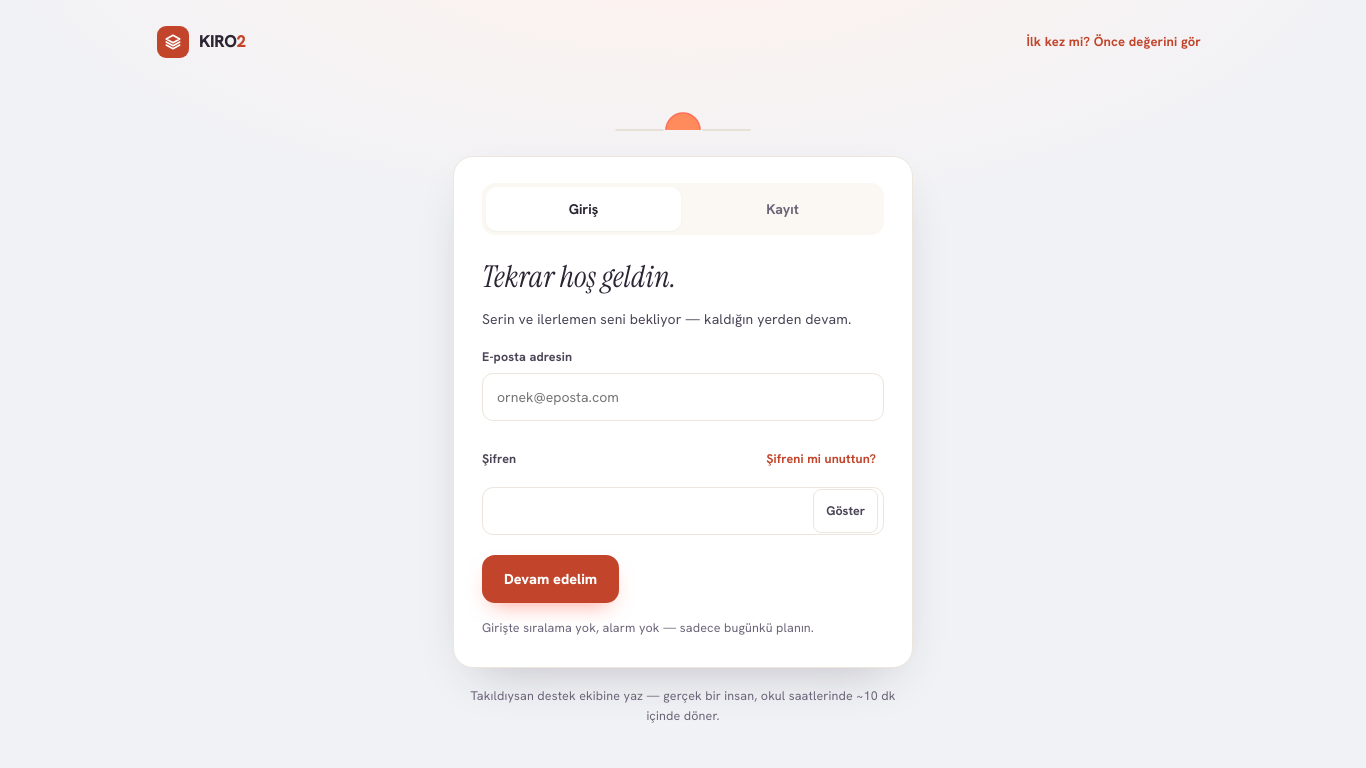
GirisPage › Kayıt sekmesine geçince başlık + Ad alanı gelir
The width and height of the screenshot is (1366, 768).
Click the radio button labelled "Kayıt": (782, 209) [685,187,880,231]
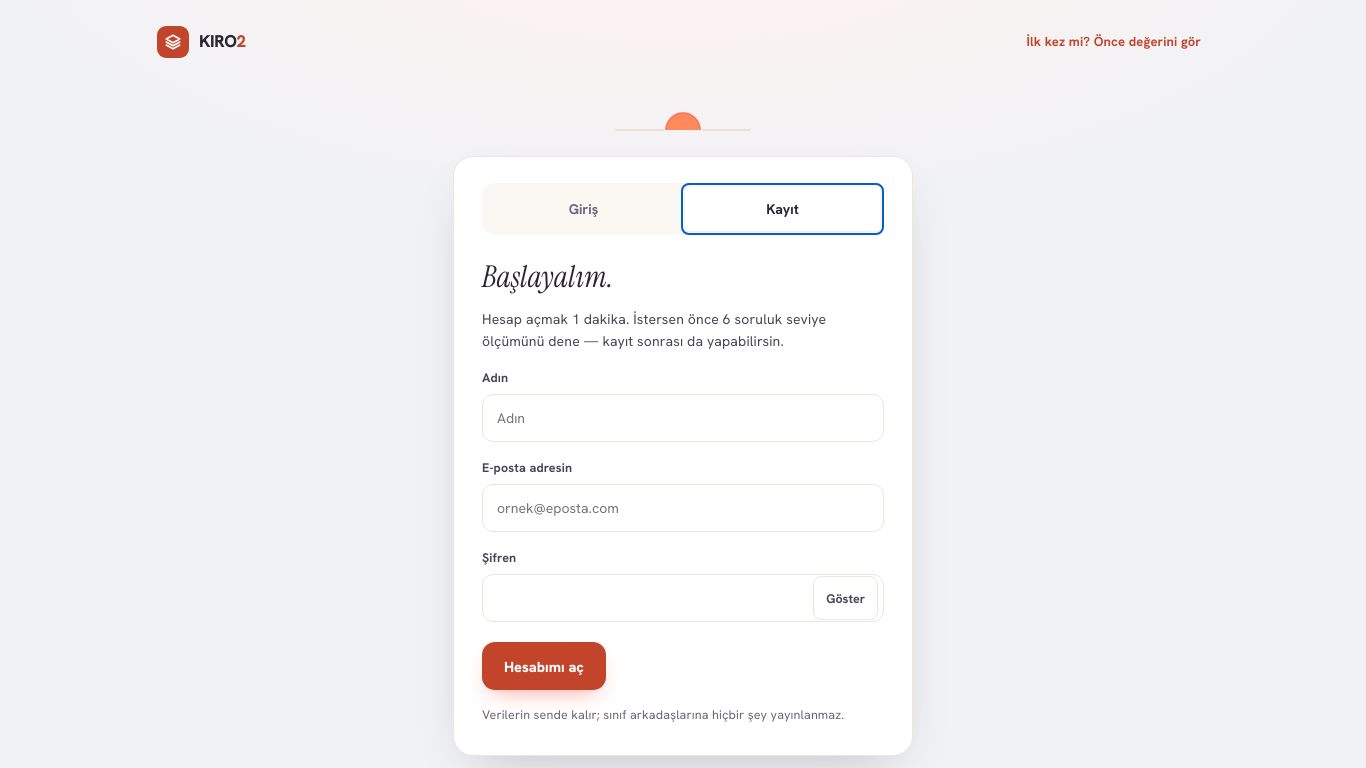
Expected: the heading "Başlayalım." is shown, [482,257,613,296]
Expected: the field labelled "Adın" is shown, [482,394,884,442]
